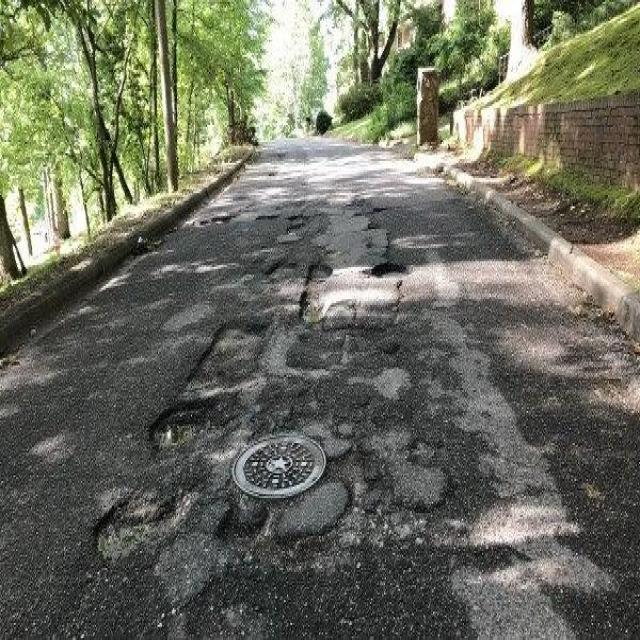jalan retak: (466, 408, 585, 515), (549, 297, 640, 417), (166, 545, 280, 640), (249, 376, 383, 446), (403, 417, 471, 541), (434, 521, 541, 585), (360, 223, 406, 261), (305, 202, 330, 241), (251, 177, 311, 192)
lubang: (192, 524, 543, 640), (35, 479, 209, 640), (276, 314, 394, 399), (91, 492, 195, 562), (318, 436, 385, 540), (187, 314, 259, 379), (148, 394, 235, 447), (219, 498, 278, 553), (338, 187, 401, 234), (300, 256, 336, 320), (341, 316, 397, 351), (360, 252, 410, 284), (260, 251, 301, 289), (192, 212, 246, 229), (283, 208, 306, 239), (253, 208, 279, 222), (267, 168, 276, 180)
